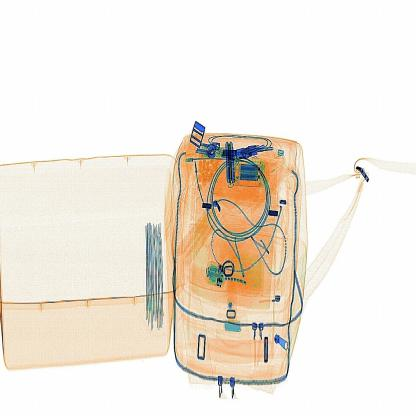scissors: (222, 144, 238, 186)
